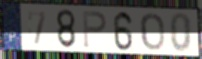0: (168, 11, 193, 54)
6: (112, 10, 134, 52)
7: (27, 10, 47, 45)
8: (55, 8, 77, 49)
O: (139, 12, 166, 52)
P: (82, 9, 108, 50)
